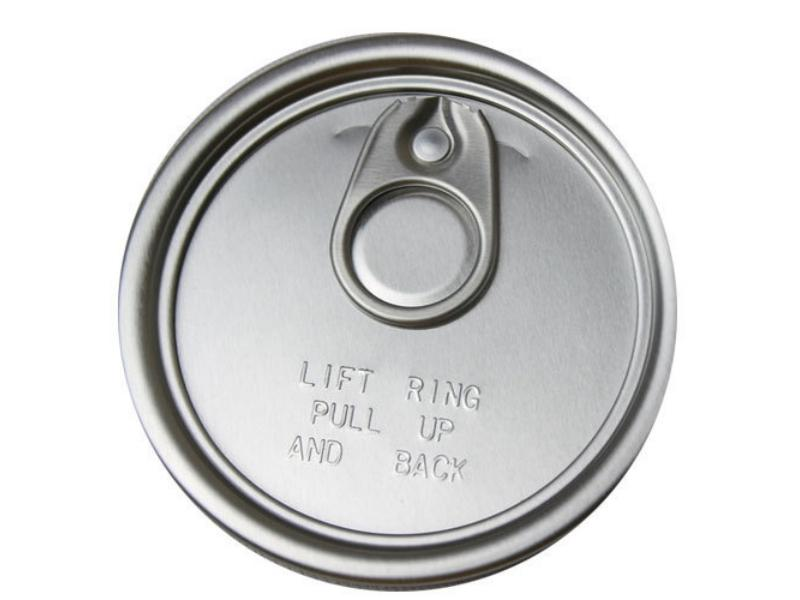can: (113, 22, 684, 599)
